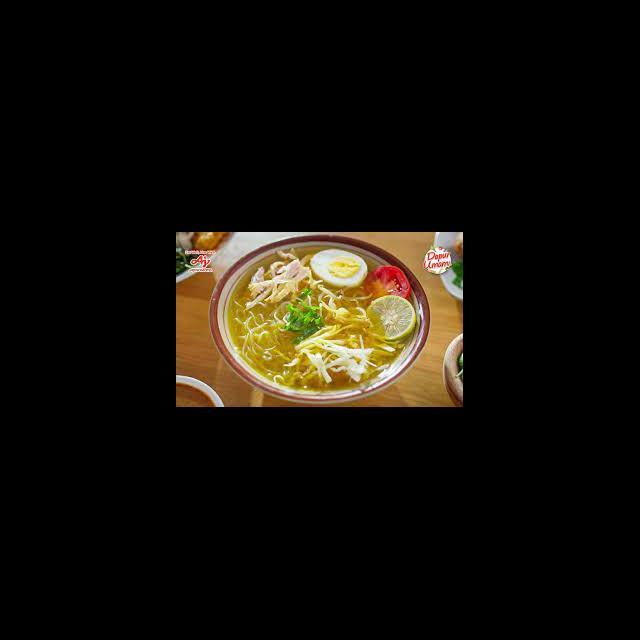Soto: (200, 242, 429, 418)
